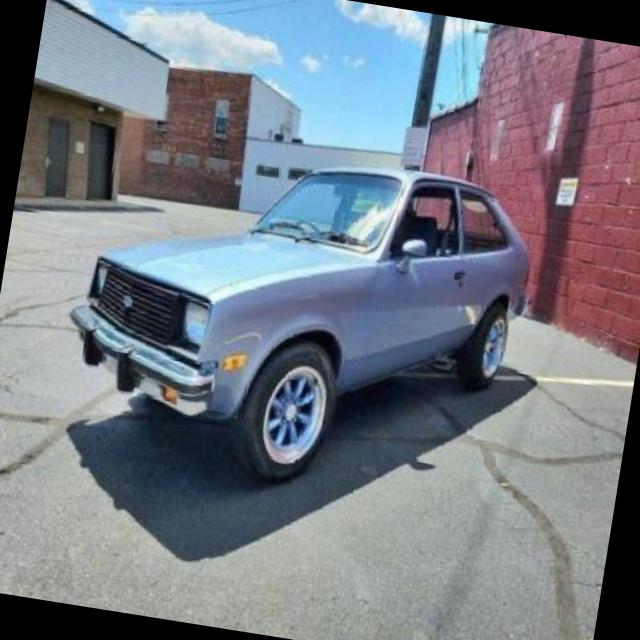car: (50, 123, 544, 520)
